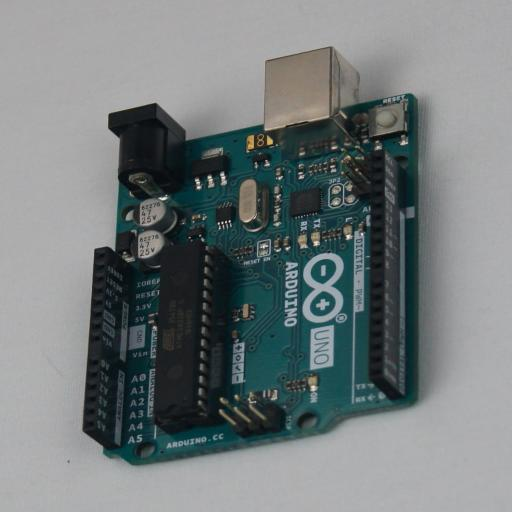Arduino Uno -Green-: (83, 46, 427, 466)
